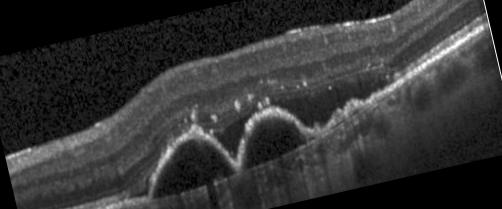neuroepithelium_detachment: (276, 69, 393, 125), (213, 113, 249, 157), (129, 176, 149, 198)
subretinal_fluid: (152, 137, 236, 197), (242, 115, 316, 169)
subretinal_hyperreflective_material: (326, 97, 366, 129)
